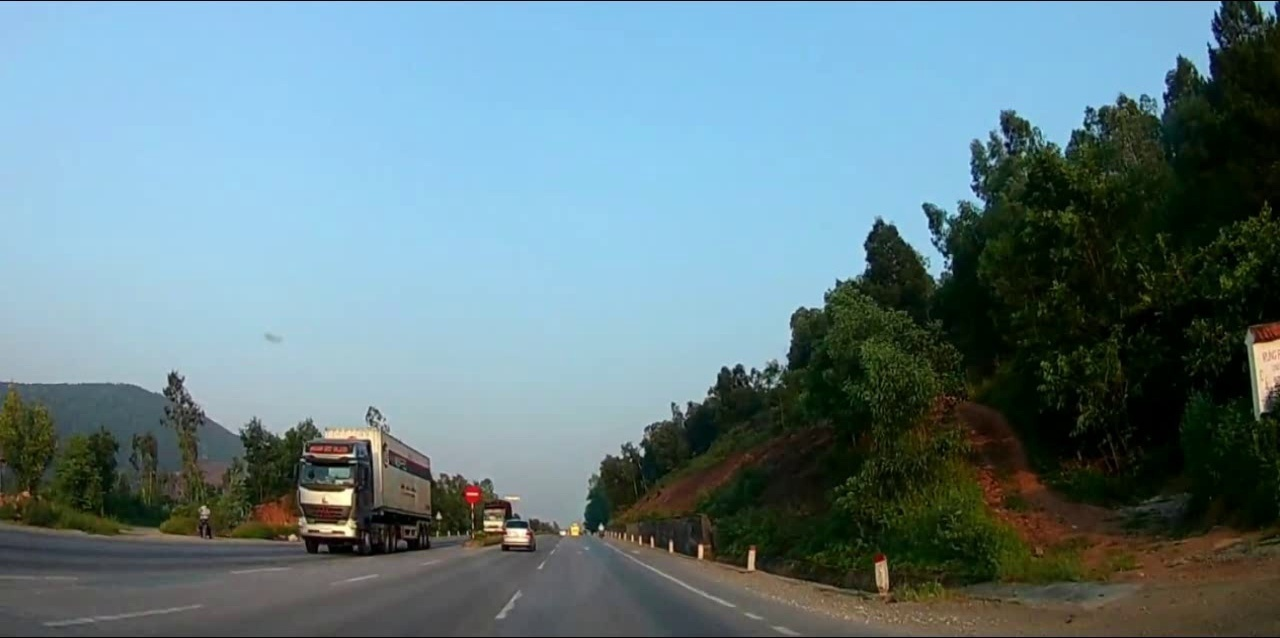Cam di nguoc chieu: (463, 483, 482, 505)
